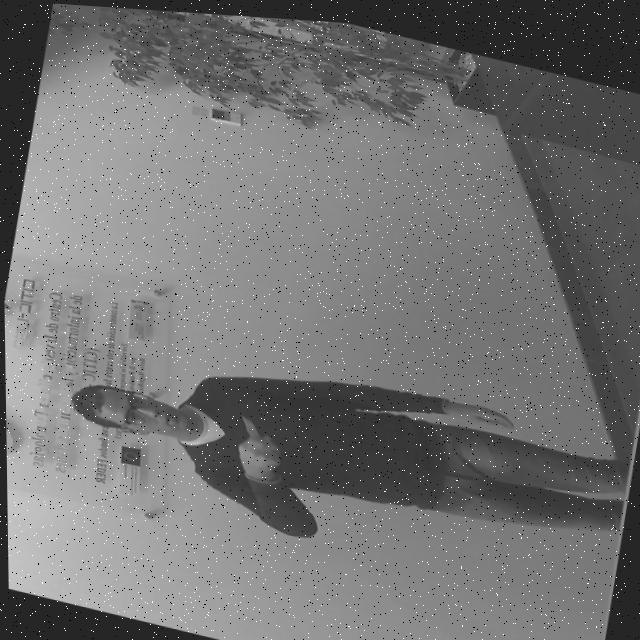knife: (235, 411, 261, 436)
